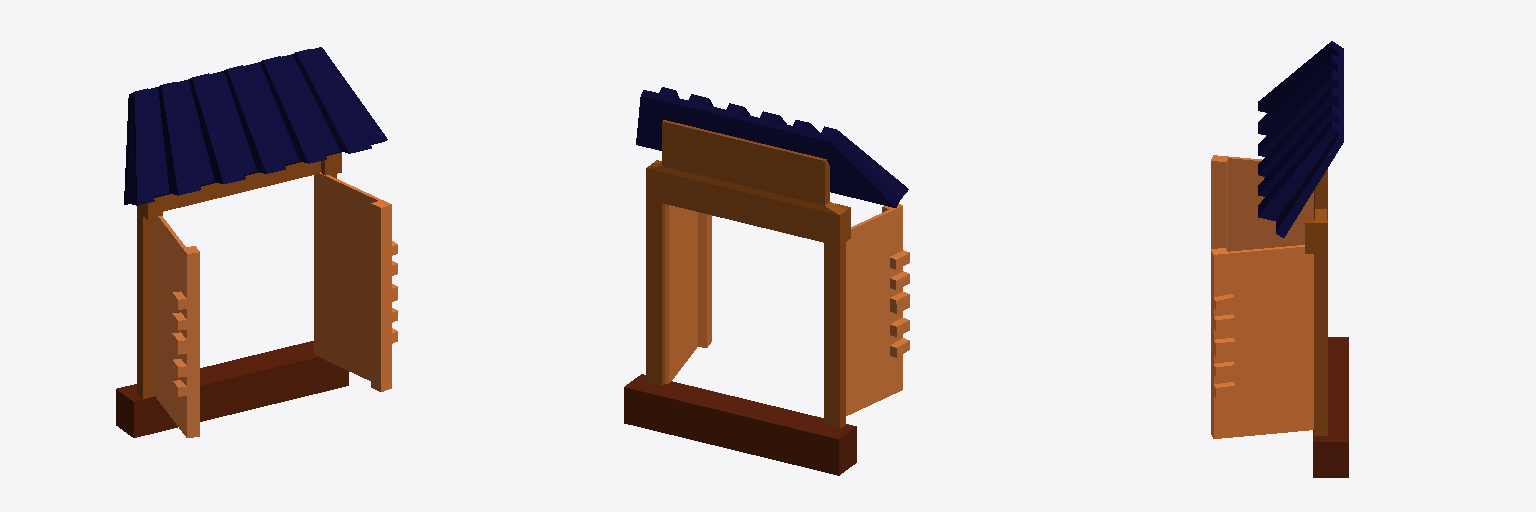
The model's file is menkou3.obj.
The picture shows the model from 3 angles: view 1: azimuth 30°, elevation 25°; view 2: azimuth 150°, elevation 25°; view 3: azimuth 270°, elevation 25°; orthographic projection.
Visible parts, largest first — view 1: Box001, Box004, Box003, Box005, Box002; view 2: Box002, Box003, Box005, Box001, Box004; view 3: Box004, Box001, Box005, Box002, Box003.
Part boxes in pixels (left/top/right/bottom): Box001: left=124, top=47, right=387, bottom=205; Box004: left=314, top=172, right=397, bottom=391; Box003: left=116, top=341, right=348, bottom=437; Box005: left=156, top=216, right=199, bottom=437; Box002: left=137, top=152, right=341, bottom=398; Box002: left=646, top=120, right=850, bottom=428; Box003: left=624, top=374, right=856, bottom=475; Box005: left=846, top=204, right=909, bottom=415; Box001: left=636, top=87, right=908, bottom=207; Box004: left=665, top=204, right=711, bottom=383; Box004: left=1211, top=245, right=1313, bottom=438; Box001: left=1258, top=41, right=1343, bottom=237; Box005: left=1211, top=155, right=1313, bottom=251; Box002: left=1305, top=169, right=1327, bottom=435; Box003: left=1313, top=337, right=1348, bottom=477.
Size of the model in its own units: 53.68 by 66.49 by 24.73.